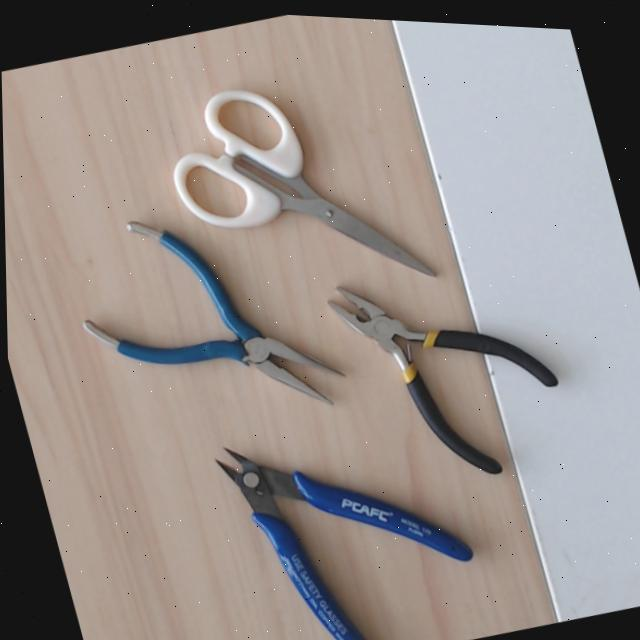Gunting: (143, 66, 437, 368)
Tang-Jepit-Biru: (73, 211, 372, 444)
Tang-Jepit-Hitam: (294, 245, 564, 480)
Tang-Potong-Biru: (199, 366, 476, 640)
